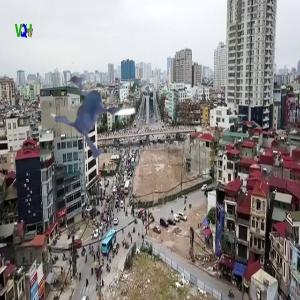drone: (41, 50, 176, 185)
